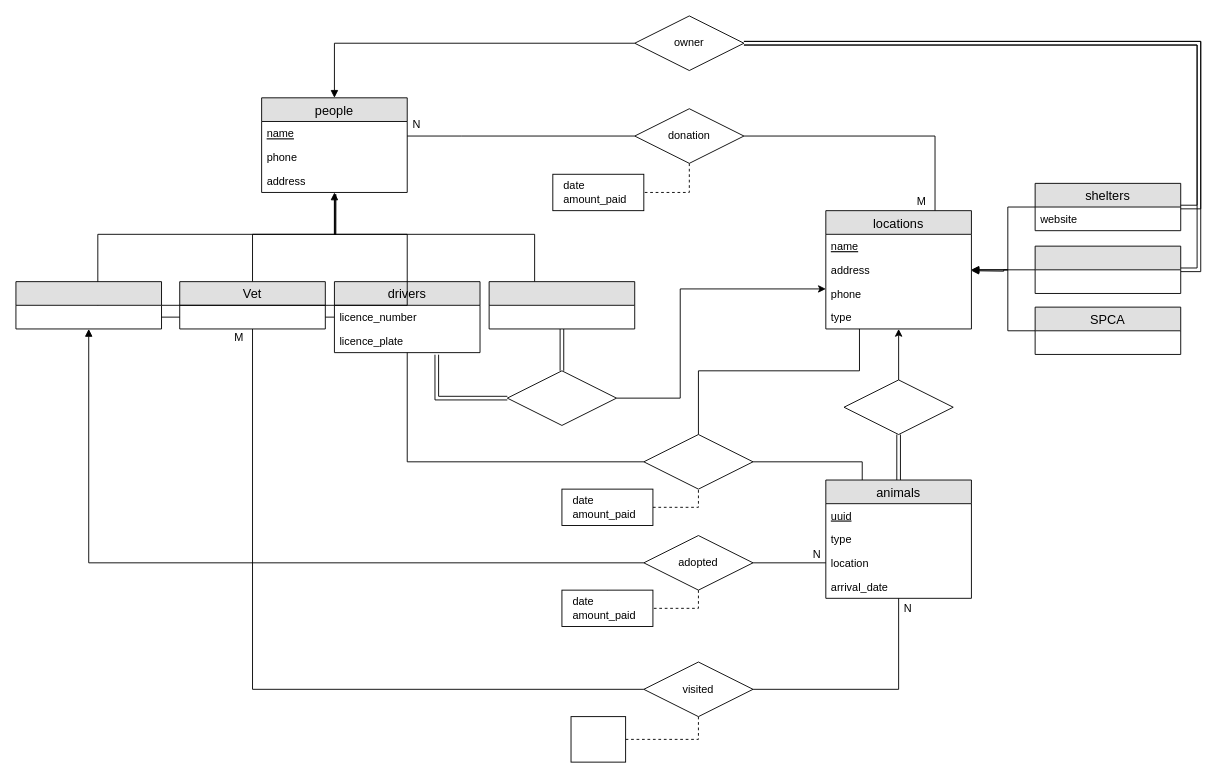
Image size: 1217x778. Some labels were removed from this diagram. The centre of each missing label's shape, as x and y in pixels:
Adopter: point 88,305
date reason weight: point 598,739
Employee: point 561,305
located: point 898,407
rescue_orgs: point 1107,269
transfers: point 698,461
workplace: point 561,397
